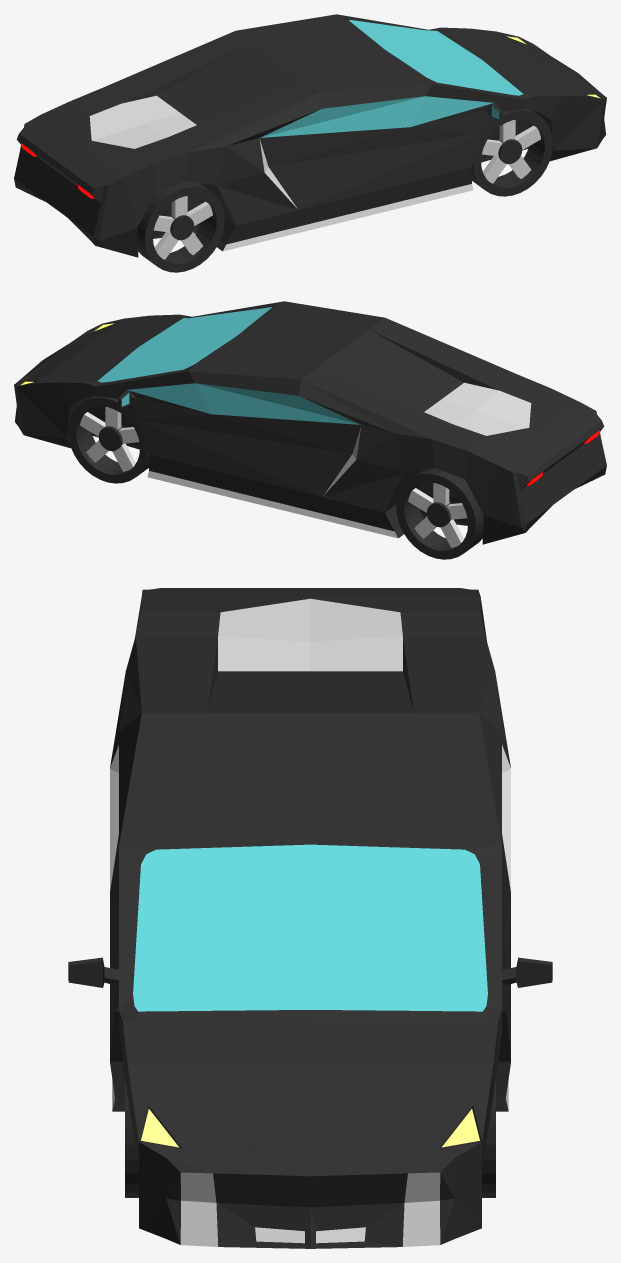
Rendered from TempCar.fbx.
3 views of the same model, one above another, from view 1: azimuth 30°, elevation 25°; view 2: azimuth 150°, elevation 25°; view 3: azimuth 270°, elevation 25° (orthographic). The views are drawn at different scales.
Parts seen in each view (by area): view 1: NewCar, Wheel, Wheel.003; view 2: NewCar, Wheel.001, Wheel.002; view 3: NewCar, Wheel.003, Wheel.002.
Boxes of the visible parts, box(x1,y1,x2,y2) form: NewCar: box(14, 14, 606, 257); Wheel: box(137, 181, 224, 272); Wheel.003: box(471, 109, 552, 196); NewCar: box(14, 301, 606, 544); Wheel.001: box(396, 468, 483, 559); Wheel.002: box(68, 396, 149, 483); NewCar: box(68, 588, 552, 1248); Wheel.003: box(125, 1080, 138, 1197); Wheel.002: box(482, 1080, 495, 1197).
Size of the model in its own units: 853 by 227 by 341.
